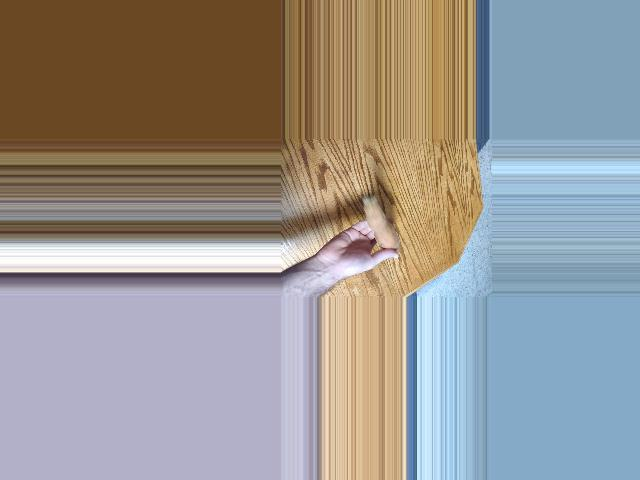sweet_potato: (359, 195, 399, 255)
